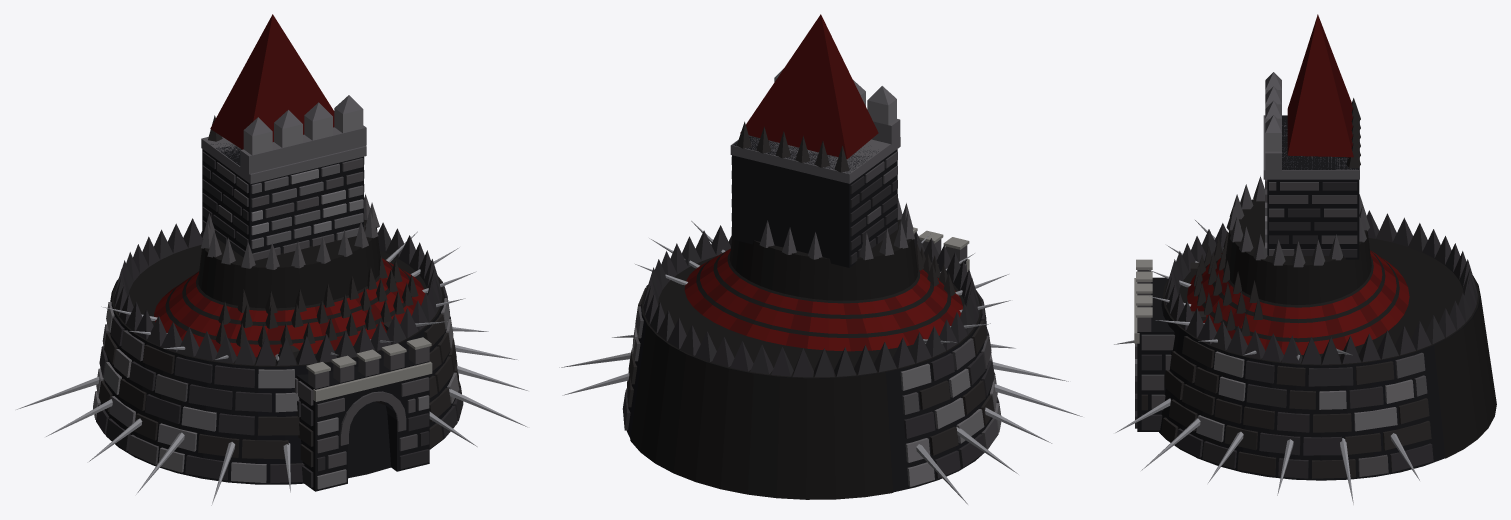
Rendered from TarTower01.glb.
3 views of the same model, side by side, from view 1: azimuth 30°, elevation 25°; view 2: azimuth 150°, elevation 25°; view 3: azimuth 270°, elevation 25° (orthographic). The views are drawn at different scales.
Parts seen in each view (by area): view 1: TarTower01_joint; view 2: TarTower01_joint; view 3: TarTower01_joint.
Boxes of the visible parts, left/top/right/bottom form: TarTower01_joint: left=16, top=14, right=527, bottom=505; TarTower01_joint: left=559, top=14, right=1082, bottom=504; TarTower01_joint: left=1114, top=14, right=1496, bottom=504.
Size of the model in its own units: 10.97 by 9.3 by 8.35.
